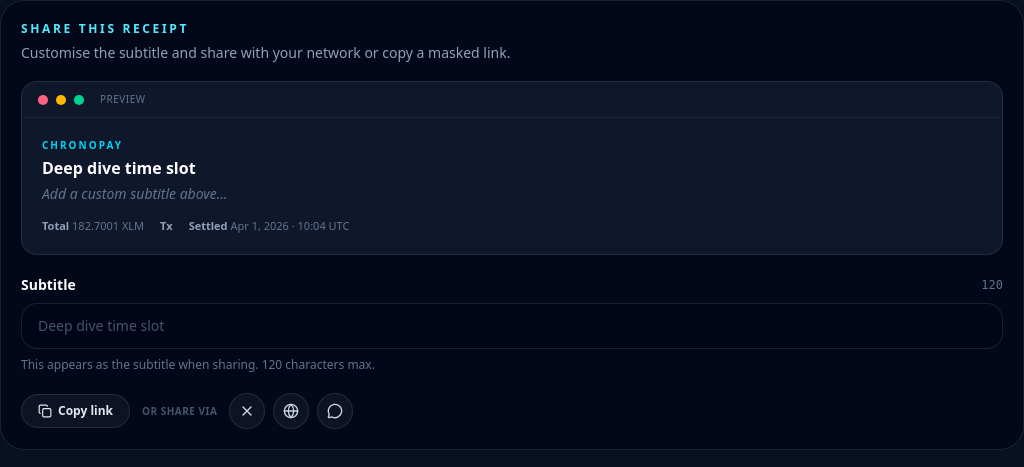
Test case: SharePreview › updates preview subtitle as user types
The width and height of the screenshot is (1024, 467).
Type "Check out my confirmed booking!" into the field labelled "Subtitle" at (512, 326), box [21,303,1003,349]
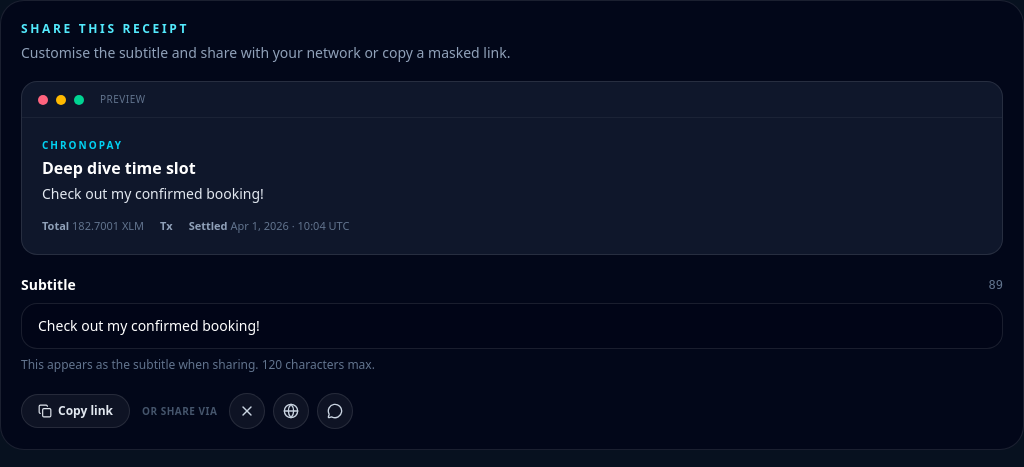
Expected: the text "Check out my confirmed booking!" is shown, [42,184,264,203]
Expected: the text "Add a custom subtitle above…" is gone
